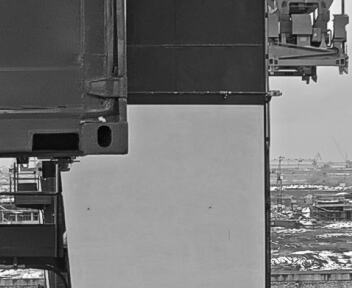twist_lock_1: (47, 153, 82, 178)
